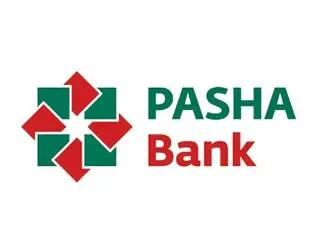Pasha Bank: (19, 68, 133, 182)
